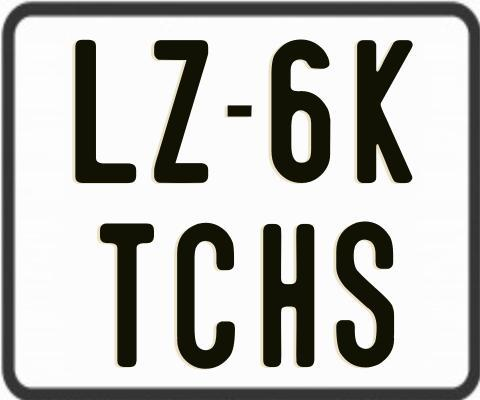6: (270, 37, 331, 184)
C: (176, 223, 238, 374)
H: (260, 223, 316, 368)
K: (356, 37, 414, 183)
L: (74, 39, 140, 188)
S: (335, 221, 397, 369)
T: (99, 222, 158, 369)
Z: (154, 39, 213, 185)
